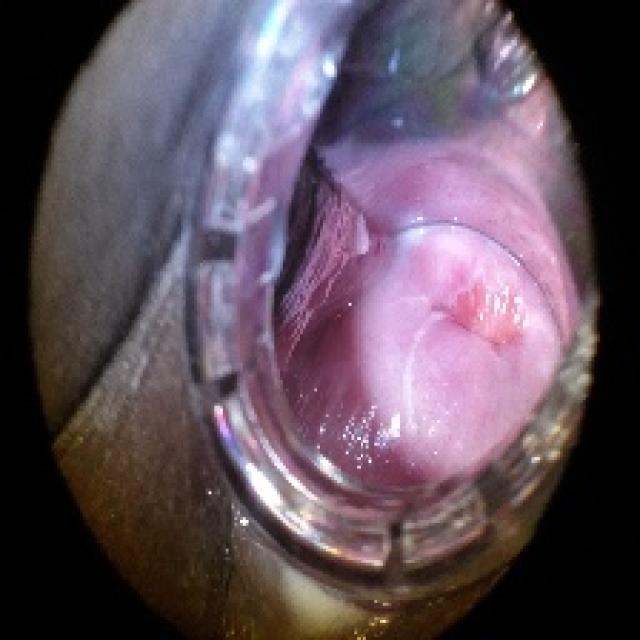type-2: (118, 0, 568, 606)
